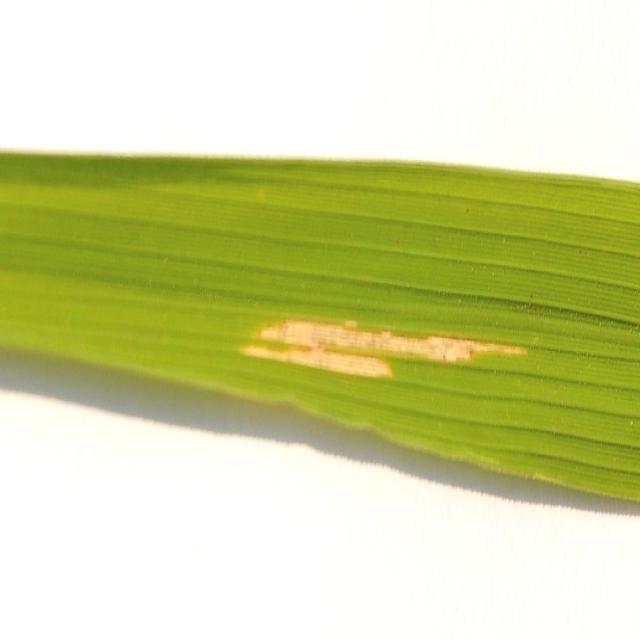Bacterial_Leaf_Blight: (231, 268, 554, 432)
